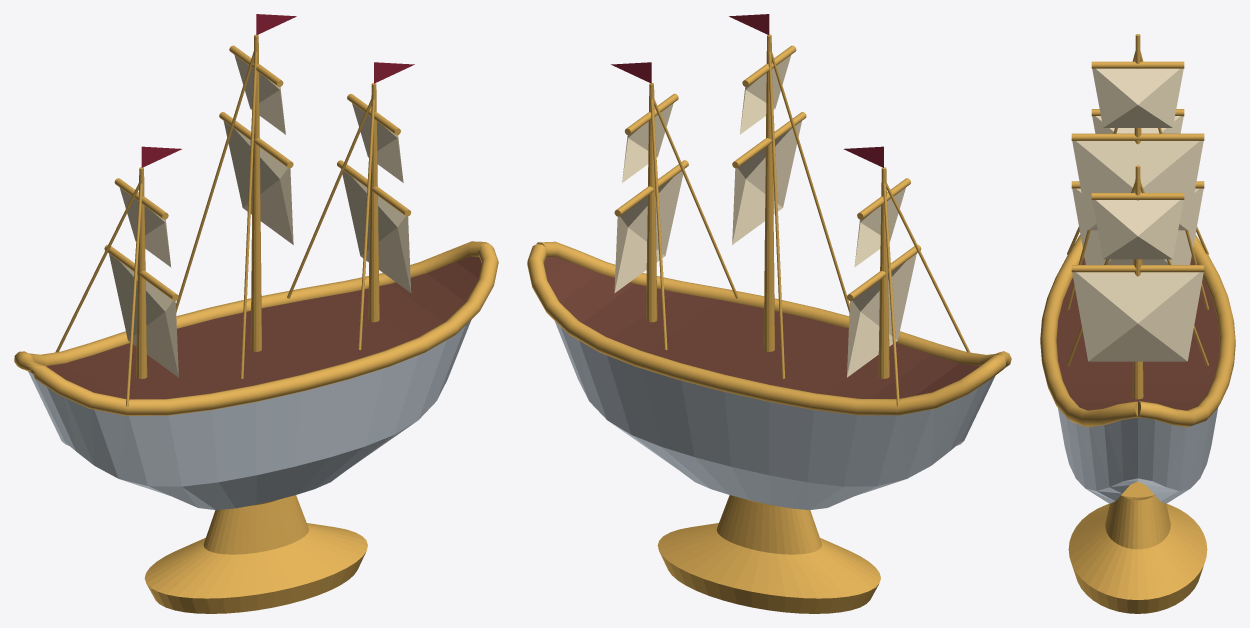
Rendered from silver_nef.fbx.
The picture shows the model from 3 angles, left to right: view 1: azimuth 30°, elevation 25°; view 2: azimuth 150°, elevation 25°; view 3: azimuth 270°, elevation 25°; orthographic projection. The views are drawn at different scales.
Visible parts, largest first — view 1: silver_nef joinery; view 2: silver_nef joinery; view 3: silver_nef joinery.
Boxes of the visible parts, <box> form: silver_nef joinery: <box>14,14,498,613</box>; silver_nef joinery: <box>527,14,1011,613</box>; silver_nef joinery: <box>1040,34,1235,613</box>.
Bounding box in the file's own units: 0.1609 × 0.184 × 0.0589.
